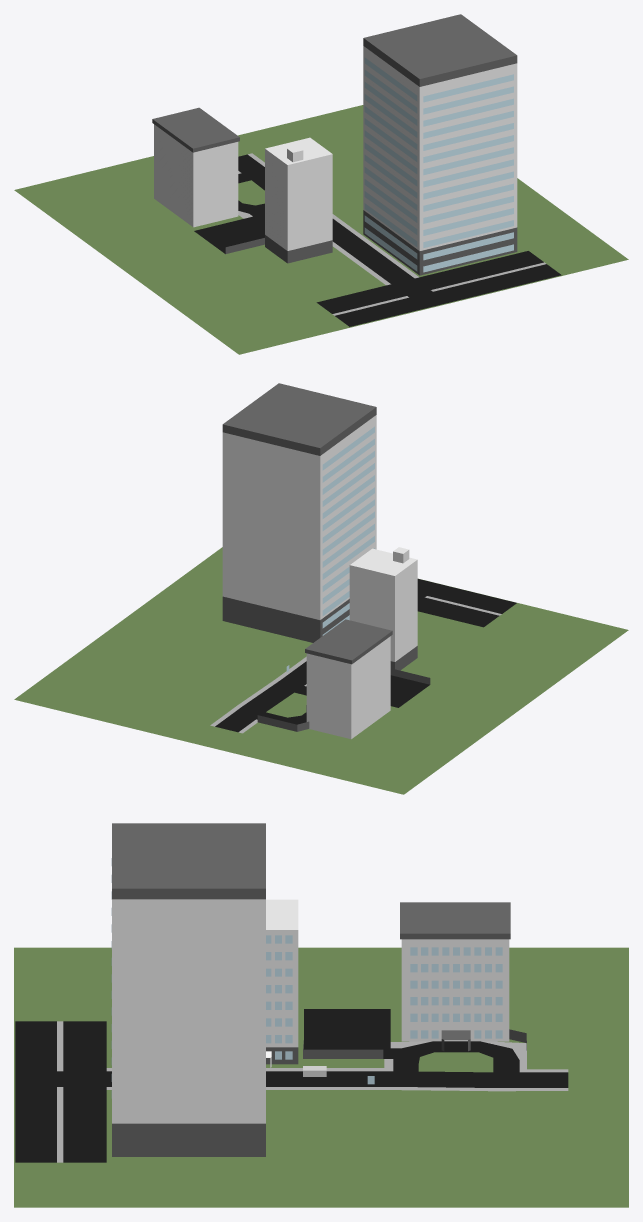
File: city2.glb
3 views of the same model, one above another, from view 1: azimuth 30°, elevation 25°; view 2: azimuth 150°, elevation 25°; view 3: azimuth 270°, elevation 25° (orthographic). The views are drawn at different scales.
Parts seen in each view (by area): view 1: ground, building_3, road, building_2, building_1; view 2: ground, building_3, building_2, road, building_1; view 3: ground, building_3, road, building_2, building_1.
Boxes of the visible parts, left/top/right/bottom form: ground: left=14, top=105, right=628, bottom=354; building_3: left=363, top=14, right=517, bottom=275; road: left=194, top=153, right=561, bottom=326; building_2: left=152, top=107, right=239, bottom=227; building_1: left=265, top=137, right=332, bottom=263; ground: left=14, top=547, right=628, bottom=794; building_3: left=222, top=383, right=376, bottom=642; building_2: left=305, top=619, right=392, bottom=739; road: left=210, top=579, right=516, bottom=733; building_1: left=349, top=547, right=417, bottom=670; ground: left=14, top=947, right=628, bottom=1207; building_3: left=111, top=823, right=265, bottom=1156; road: left=15, top=1009, right=568, bottom=1162; building_2: left=400, top=902, right=510, bottom=1051; building_1: left=266, top=899, right=298, bottom=1067.
Size of the model in its own units: 123 by 61.24 by 123.
